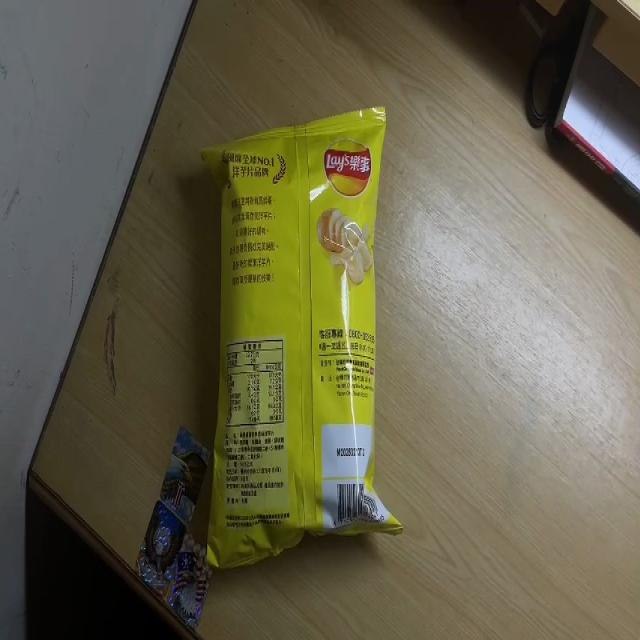Lay-s-original: (205, 105, 402, 558)
